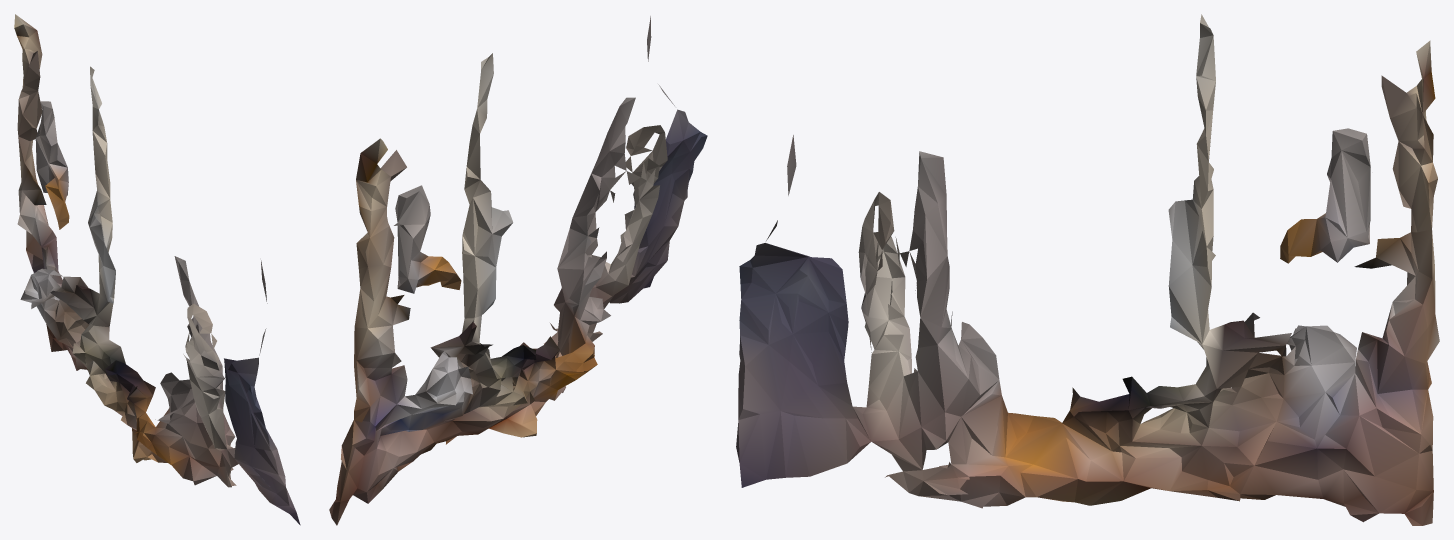
Rendered from prep_run__upper_dishes_left.scan.glb.
The picture shows the model from 3 angles, left to right: view 1: azimuth 30°, elevation 25°; view 2: azimuth 150°, elevation 25°; view 3: azimuth 270°, elevation 25°; orthographic projection. The views are drawn at different scales.
Parts seen in each view (by area): view 1: geometry_0; view 2: geometry_0; view 3: geometry_0.
Part boxes in pixels (x1,y1,x2,y2): geometry_0: (14, 14, 300, 525); geometry_0: (329, 16, 707, 525); geometry_0: (736, 14, 1439, 525).
Size of the model in its own units: 0.1471 by 0.5728 by 0.7538.
